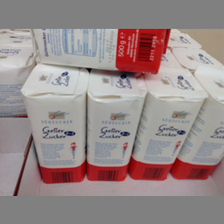tomato_sauce: (132, 68, 206, 181), (21, 63, 88, 184), (88, 69, 147, 182), (28, 29, 170, 75), (174, 68, 224, 181)
